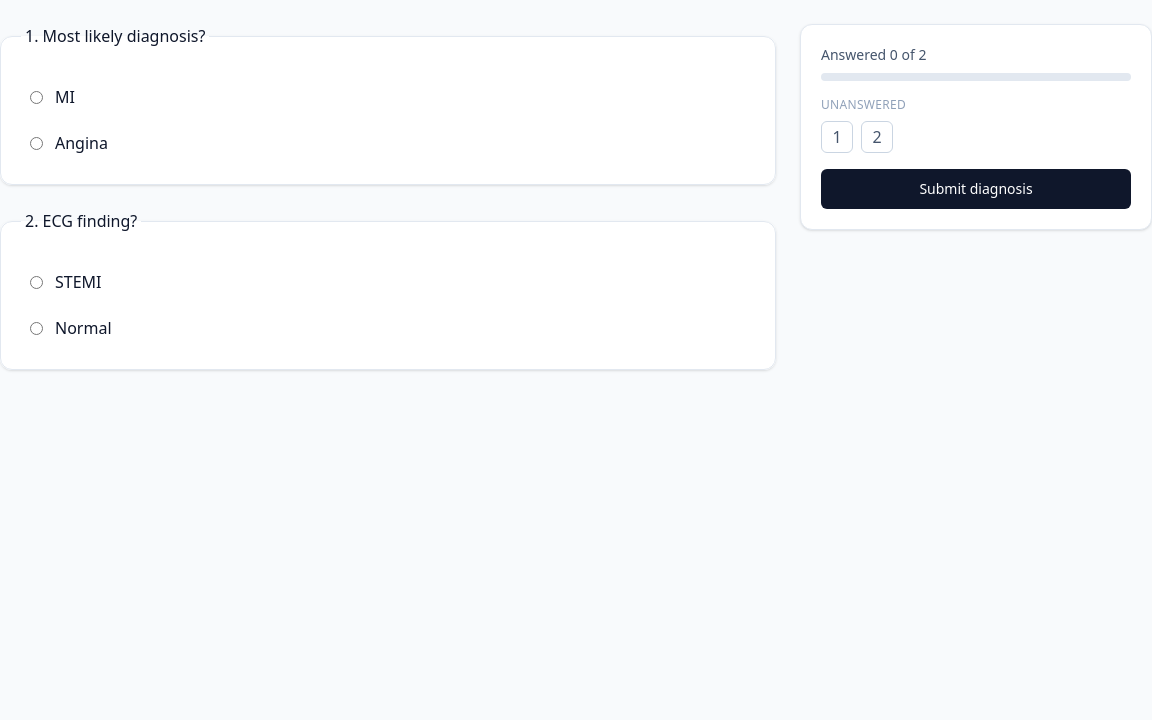
it: CaseRunner › submits the selected answers and shows the scored breakdown
Click the radio button labelled "MI" at [36, 97], box x1=30 y1=90 x2=43 y2=104
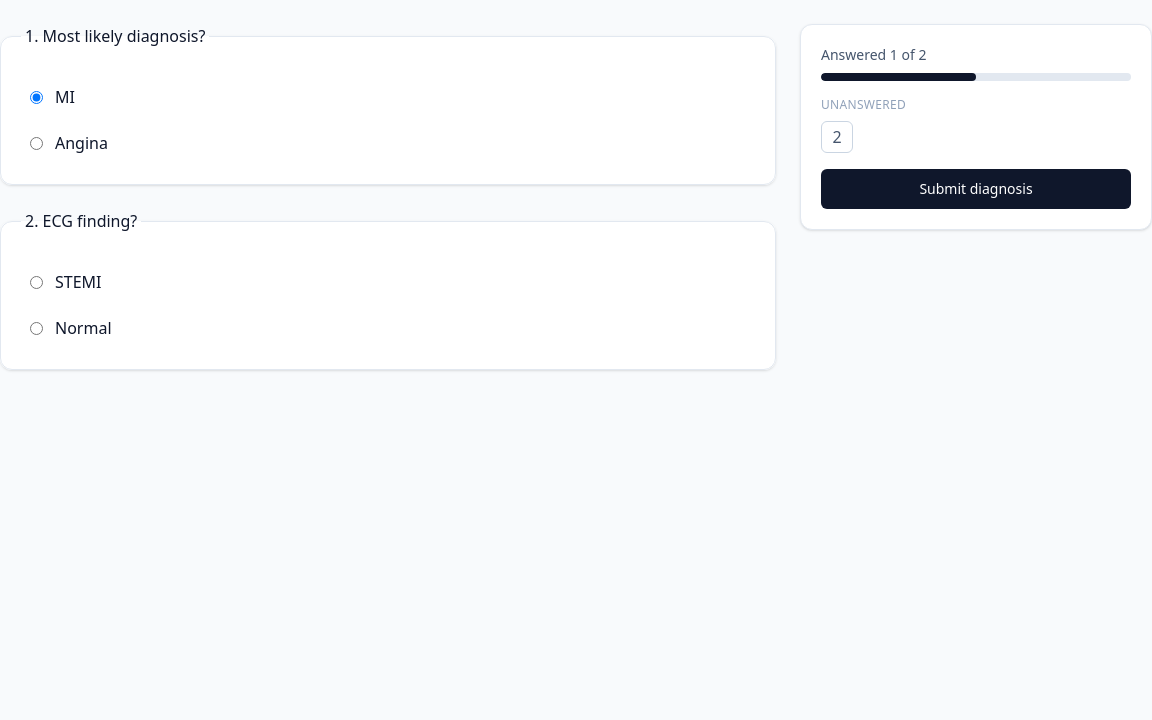
Click the radio button labelled "STEMI" at [36, 282], box x1=30 y1=276 x2=43 y2=288
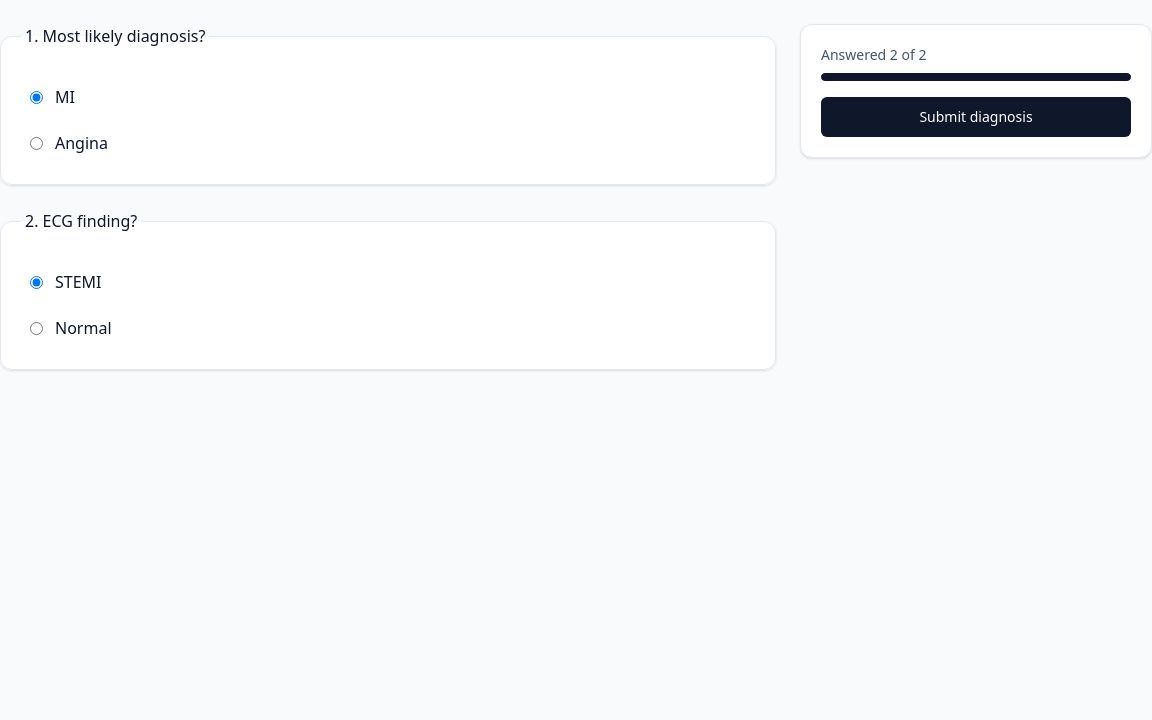
Submit the form from the button "Submit diagnosis", box x1=821 y1=97 x2=1131 y2=137
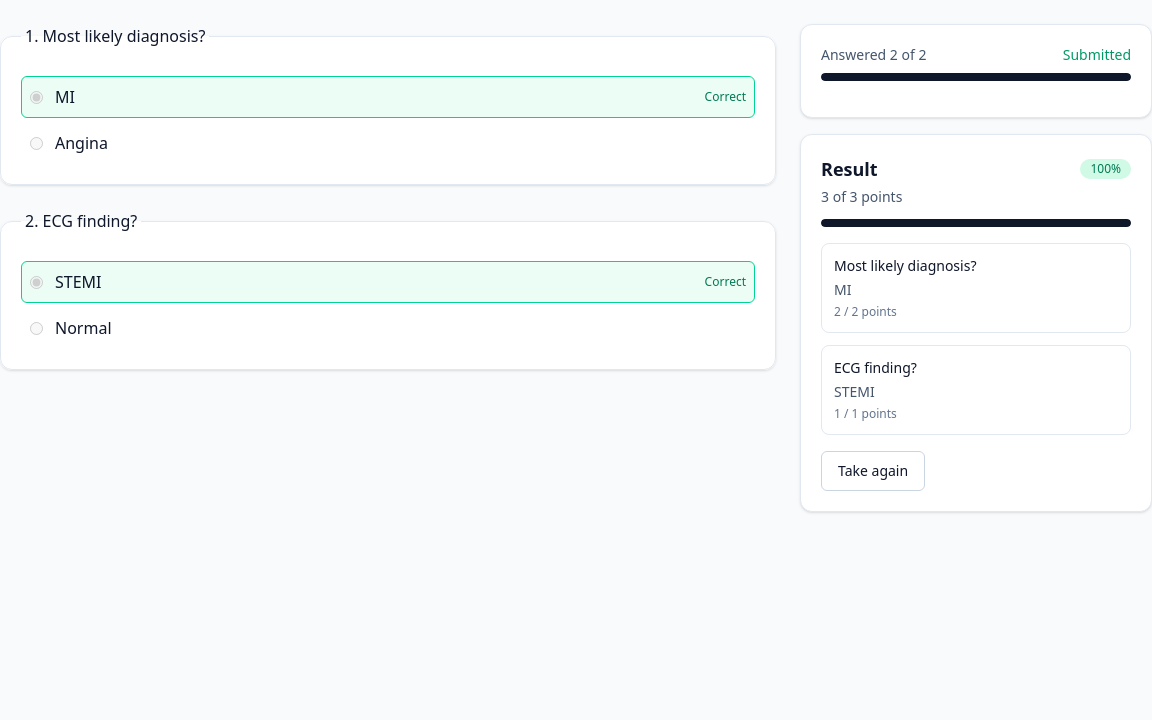
Now the text "100%" is shown, box x1=1080 y1=159 x2=1131 y2=179
Now the text "3 of 3 points" is shown, box x1=821 y1=187 x2=902 y2=206
Now the text "2 / 2 points" is shown, box x1=834 y1=303 x2=897 y2=320
